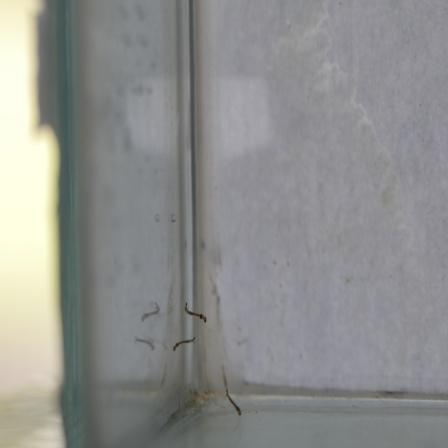Jentik-Nyamuk: (222, 386, 246, 421), (181, 300, 211, 327), (168, 334, 198, 352)
